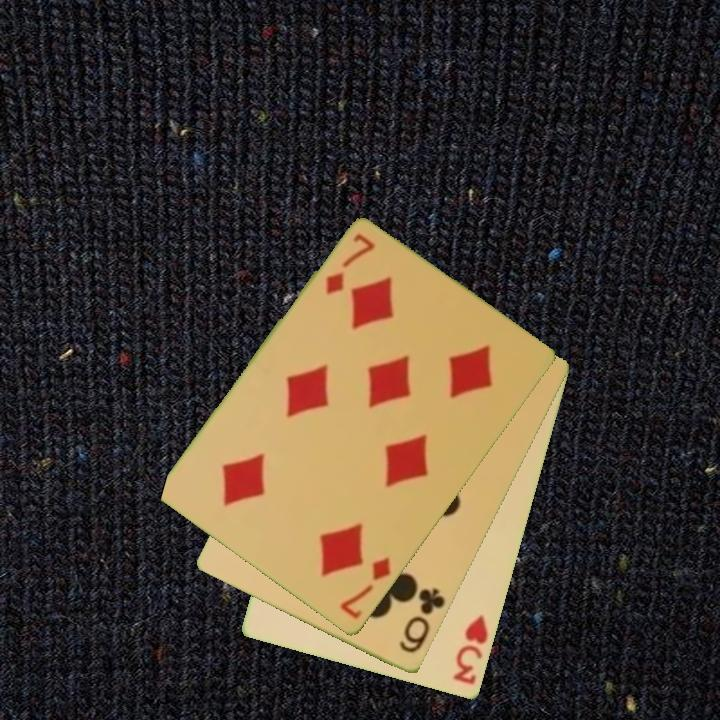3h: (450, 611, 492, 688)
6c: (395, 585, 449, 657)
7d: (336, 554, 394, 623), (322, 230, 378, 299)
